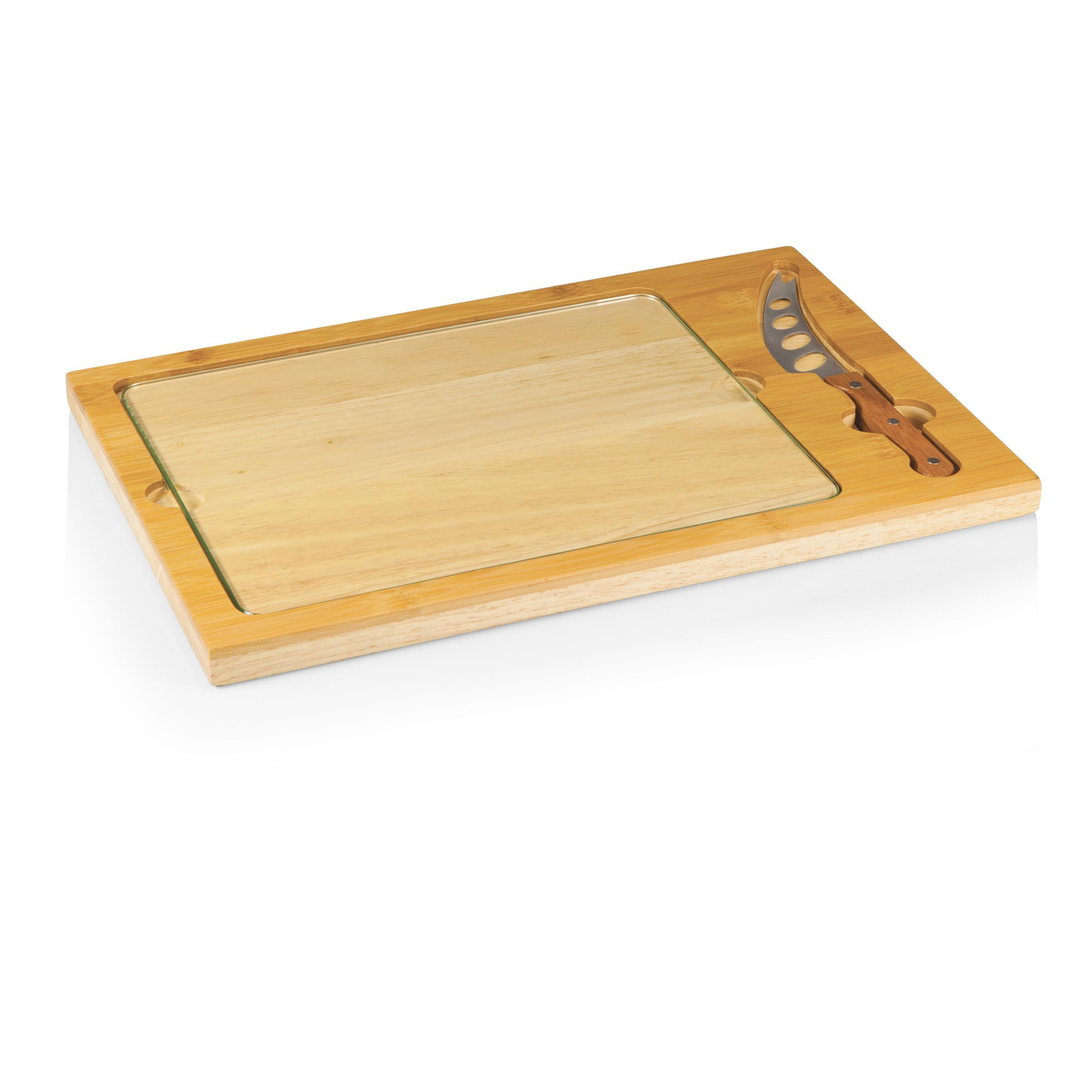gloved_hand: (50, 230, 1048, 689)
